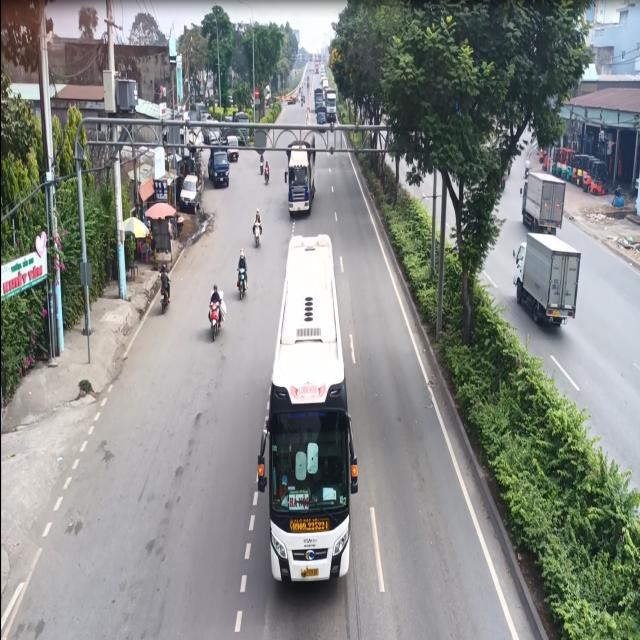bus: (260, 230, 360, 608)
motor: (205, 278, 225, 345), (152, 263, 173, 322), (235, 242, 247, 308), (251, 206, 263, 254)
truck: (285, 136, 319, 221)
